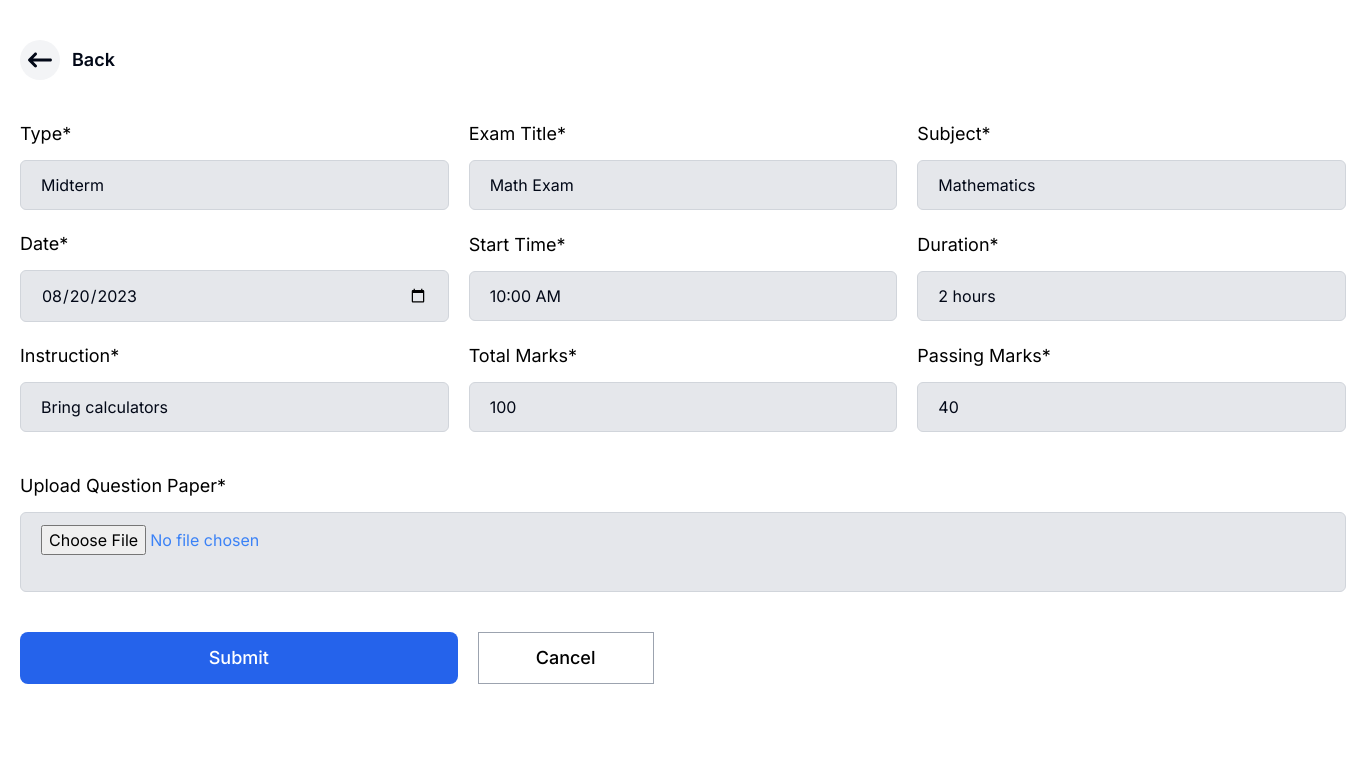
Scenario: ExamDetails Component › shows success message after successful form submission
The image size is (1366, 768).
Click the button "Submit" at [239, 658], box [20, 632, 458, 684]
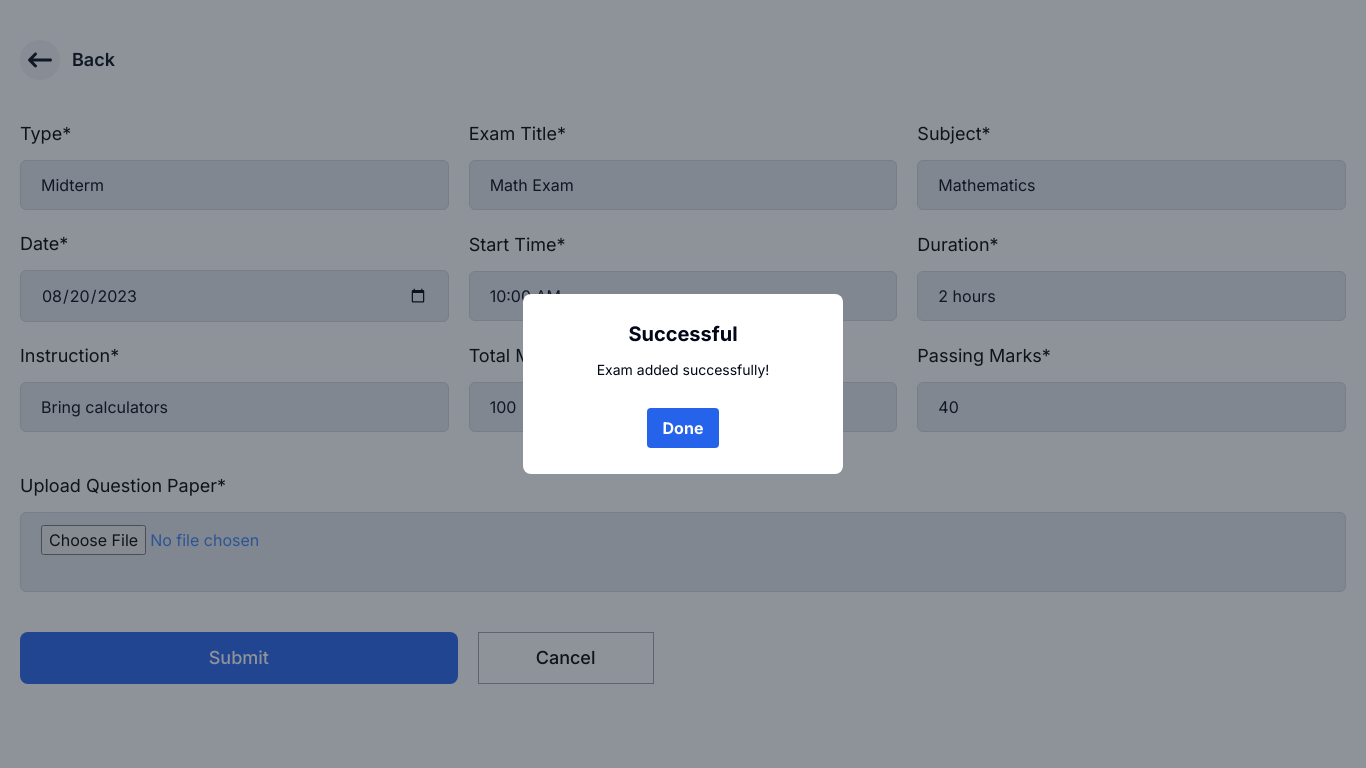
expect the heading "Exam added successfully!" is shown: met, box [597, 360, 769, 380]
